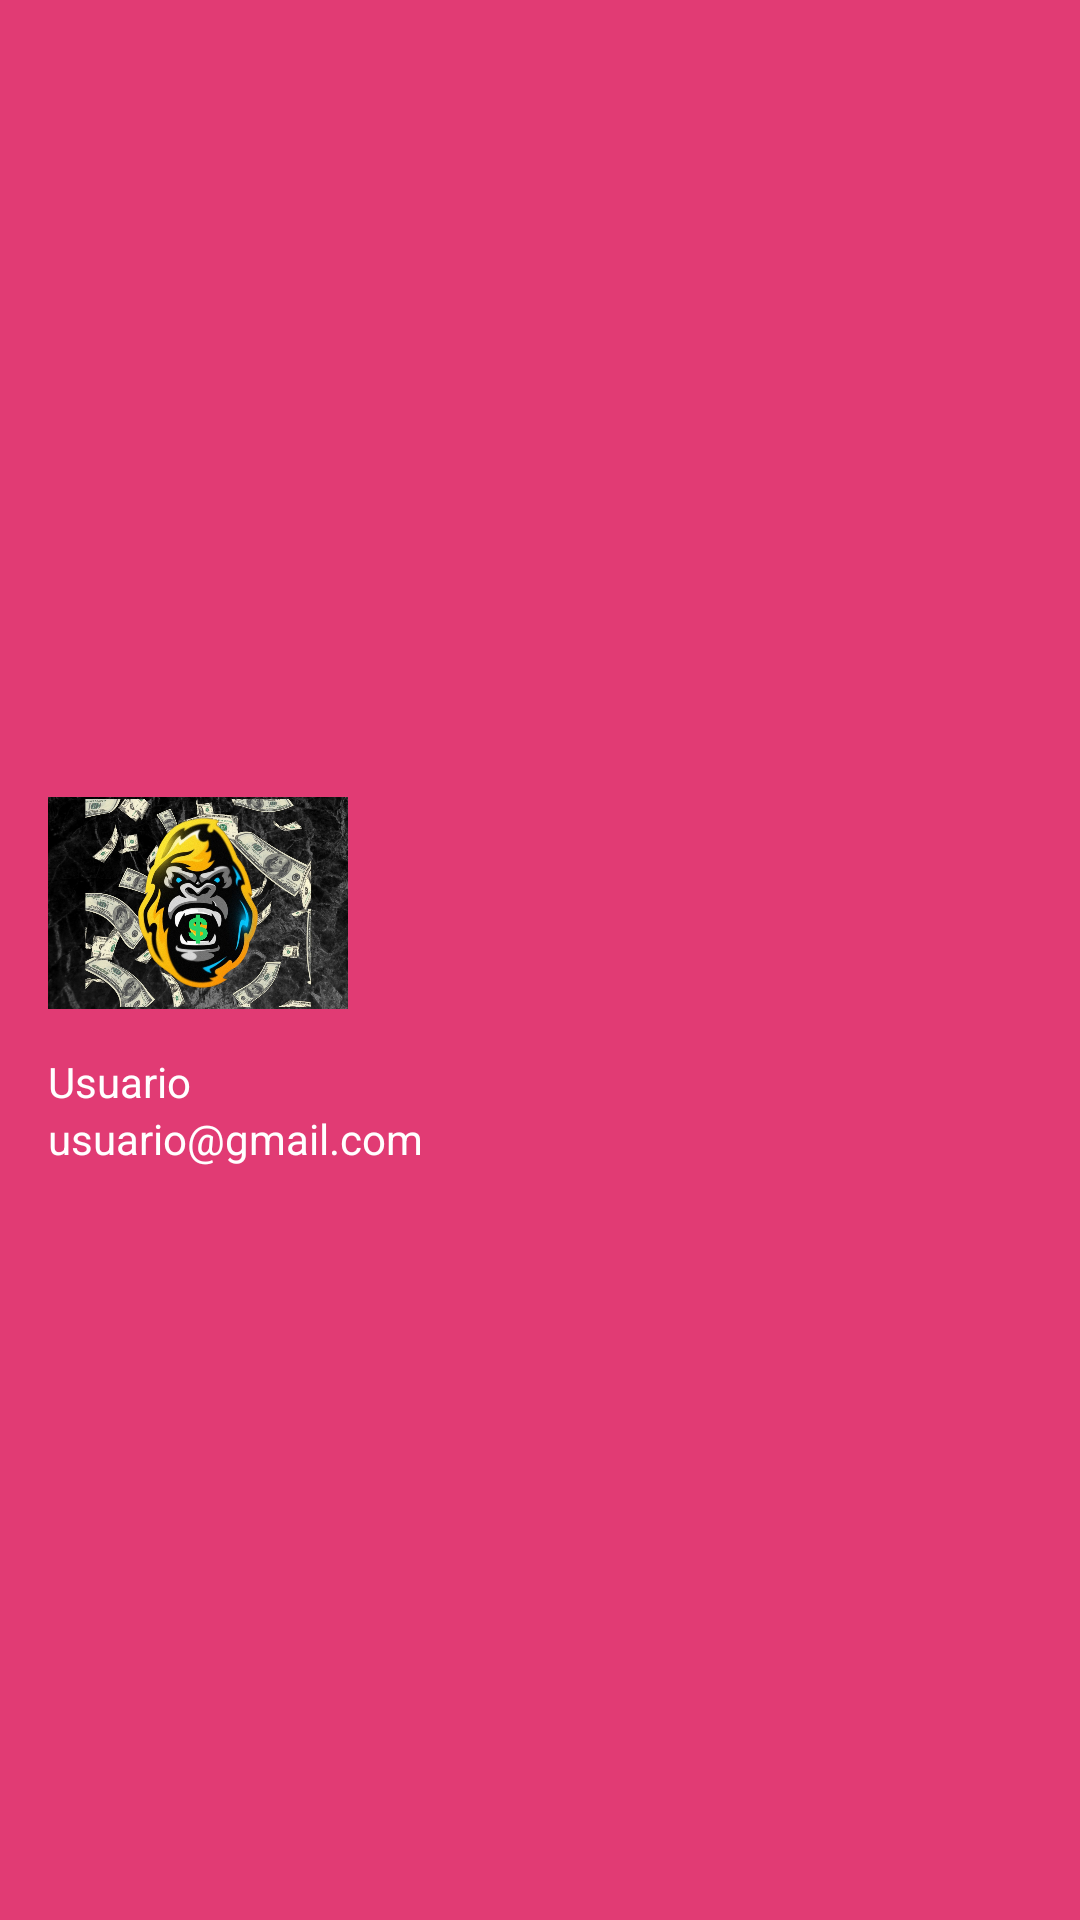

Icons on this 1080*1920 Android screen, each with its box as [x1=x1, y1=y1, x2=x2, y2=y2]:
bumonkey: [x1=48, y1=797, x2=348, y2=1009]
